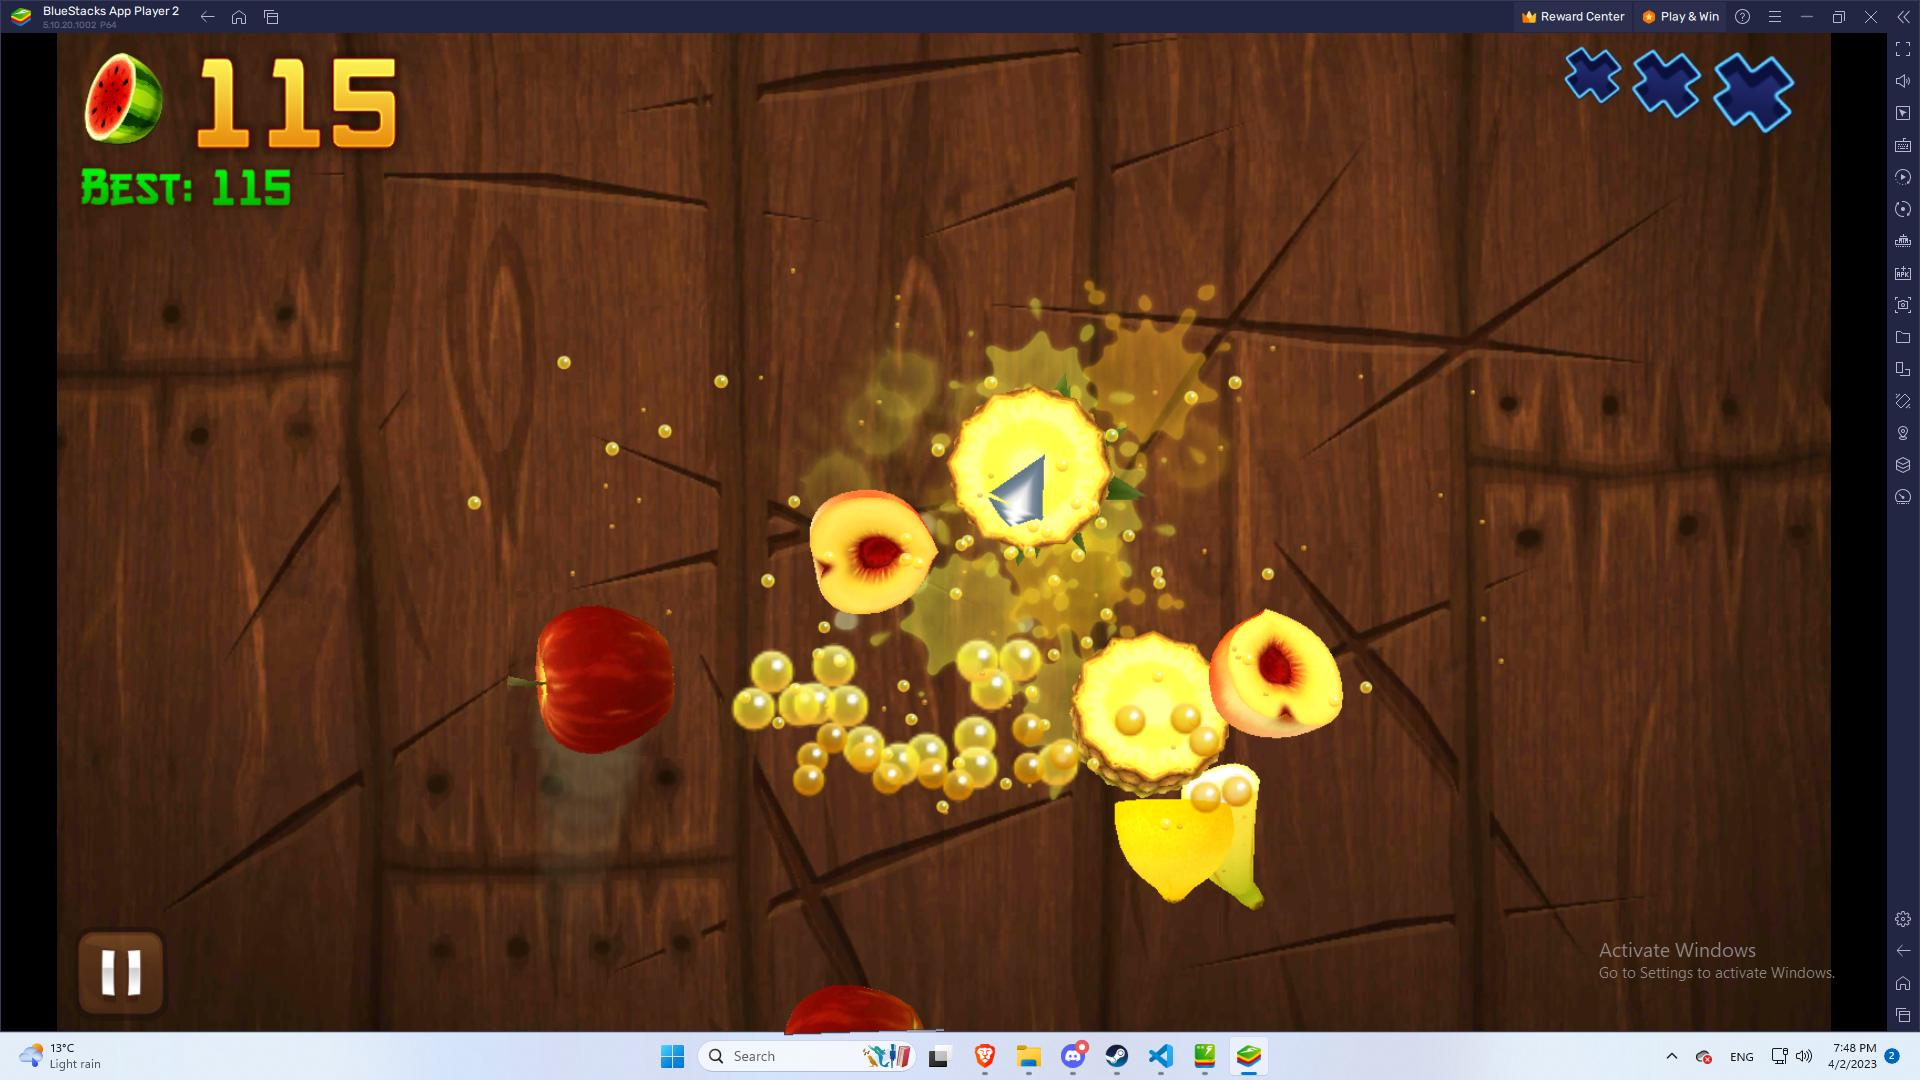fruit: (506, 593, 702, 756), (785, 976, 944, 1035)
